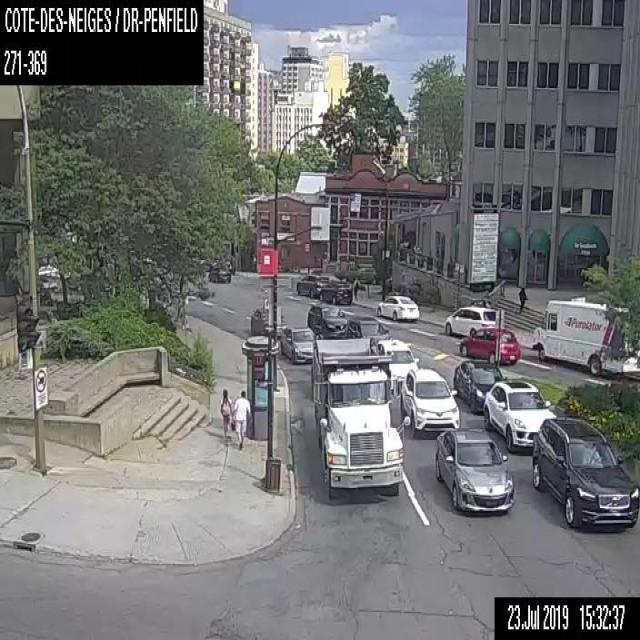pedestrian: (233, 390, 251, 450), (219, 388, 232, 441), (518, 285, 527, 312), (352, 275, 358, 300)
vehicle: (312, 336, 409, 497), (531, 416, 639, 531), (531, 297, 636, 375), (435, 428, 515, 513), (483, 380, 557, 452), (400, 366, 458, 431), (453, 358, 507, 414), (459, 328, 521, 366), (376, 338, 419, 388), (443, 304, 496, 336), (307, 302, 349, 337), (280, 325, 317, 363), (249, 306, 287, 338), (375, 294, 419, 320), (346, 314, 390, 338), (295, 273, 329, 297), (319, 280, 351, 304), (208, 262, 230, 282)
